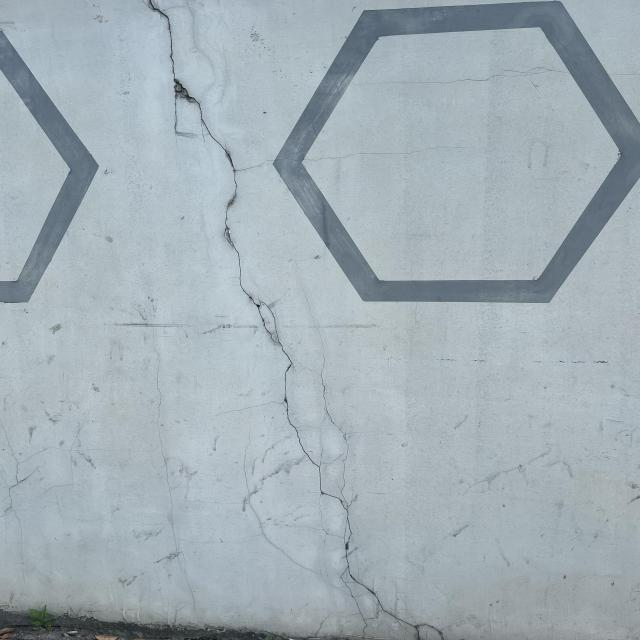crack: (123, 2, 452, 640)
